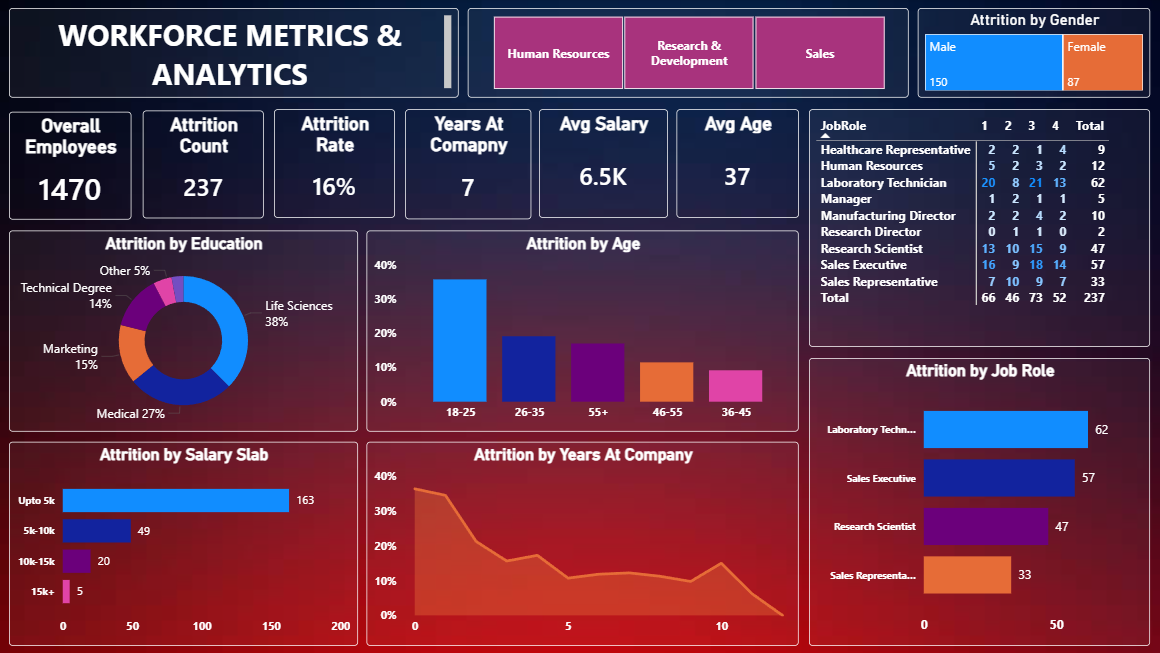

The page's visual inventory and layout, read from the dashboard file:
{"tool":"powerbi","page":{"name":"WorkforceMetrics&AnalyticsDashboard","canvas":[1280,720],"ordinal":0},"visuals":[{"type":"cardVisual","title":"Overall Employees","fields":{"Data":["CountNonNull(HR_Analytics.EmployeeCount)"]},"box":[16.5,124.9,134.5,118],"z":0},{"type":"cardVisual","title":"Attrition Count","fields":{"Data":["Sum(HR_Analytics.AttritionCount)"]},"box":[163.3,123.5,133.1,118],"z":1000},{"type":"cardVisual","title":"Attrition Rate","fields":{"Data":["HR_Analytics.AttritionRate"]},"box":[307.4,122.1,133.1,119.4],"z":2000},{"type":"cardVisual","title":"Avg Age","fields":{"Data":["Avg(HR_Analytics.Age)"]},"box":[749.2,122.1,134.5,119.4],"z":3000},{"type":"cardVisual","title":"Avg Salary","fields":{"Data":["Avg(HR_Analytics.MonthlyIncome)"]},"box":[598.3,122.1,141.3,119.4],"z":4000},{"type":"cardVisual","title":"Years At  Comapny","fields":{"Data":["Avg(HR_Analytics.YearsAtCompany)"]},"box":[451.5,122.1,138.6,120.8],"z":5000},{"type":"donutChart","title":"Attrition by Education","fields":{"Y":["Sum(HR_Analytics.AttritionCount)"],"Category":["HR_Analytics.EducationField"]},"box":[16.5,255.2,382.8,220.9],"z":6000},{"type":"clusteredColumnChart","title":"Attrition by Age","fields":{"Category":["HR_Analytics.AgeGroup"],"Y":["HR_Analytics.AttritionRate"]},"box":[408.9,255.2,474.8,220.9],"z":7000},{"type":"pivotTable","fields":{"Rows":["HR_Analytics.JobRole"],"Columns":["HR_Analytics.JobSatisfaction"],"Values":["Sum(HR_Analytics.AttritionCount)"]},"box":[894.7,122.1,374.6,260.7],"z":8000},{"type":"barChart","title":"Attrition by Salary Slab","fields":{"Category":["HR_Analytics.SalarySlab"],"Y":["Sum(HR_Analytics.AttritionCount)"]},"box":[16.5,487.1,382.8,223.7],"z":9000},{"type":"barChart","title":"Attrition by Job Role","fields":{"Category":["HR_Analytics.JobRole"],"Y":["Sum(HR_Analytics.AttritionCount)"]},"box":[894.7,395.2,374.6,315.6],"z":10000},{"type":"areaChart","title":"Attrition by Years At Company","fields":{"Category":["HR_Analytics.YearsAtCompany"],"Y":["HR_Analytics.AttritionRate"]},"box":[408.9,487.1,474.8,223.7],"z":11000},{"type":"treemap","title":"Attrition by Gender","fields":{"Group":["HR_Analytics.Gender"],"Values":["Sum(HR_Analytics.AttritionCount)"]},"box":[1014.1,11,255.2,98.8],"z":12000},{"type":"slicer","fields":{"Values":["HR_Analytics.Department"]},"box":[520.1,11,484.4,98.8],"z":13000},{"type":"textbox","box":[16.5,11,494,98.8],"z":14000}]}

Visuals, with their boxes in screenshot pixels (x1, y1, x2, y2), scaled from the page's 1280x720 canvas onto the 1160x653 screenshot:
"Overall Employees" cardVisual: (x1=15, y1=113, x2=137, y2=220)
"Attrition Count" cardVisual: (x1=148, y1=112, x2=269, y2=219)
"Attrition Rate" cardVisual: (x1=279, y1=111, x2=399, y2=219)
"Avg Age" cardVisual: (x1=679, y1=111, x2=801, y2=219)
"Avg Salary" cardVisual: (x1=542, y1=111, x2=670, y2=219)
"Years At  Comapny" cardVisual: (x1=409, y1=111, x2=535, y2=220)
"Attrition by Education" donutChart: (x1=15, y1=231, x2=362, y2=432)
"Attrition by Age" clusteredColumnChart: (x1=371, y1=231, x2=801, y2=432)
pivotTable - HR_Analytics.JobRole x HR_Analytics.JobSatisfaction: (x1=811, y1=111, x2=1150, y2=347)
"Attrition by Salary Slab" barChart: (x1=15, y1=442, x2=362, y2=645)
"Attrition by Job Role" barChart: (x1=811, y1=358, x2=1150, y2=645)
"Attrition by Years At Company" areaChart: (x1=371, y1=442, x2=801, y2=645)
"Attrition by Gender" treemap: (x1=919, y1=10, x2=1150, y2=100)
slicer - HR_Analytics.Department: (x1=471, y1=10, x2=910, y2=100)
textbox: (x1=15, y1=10, x2=463, y2=100)
